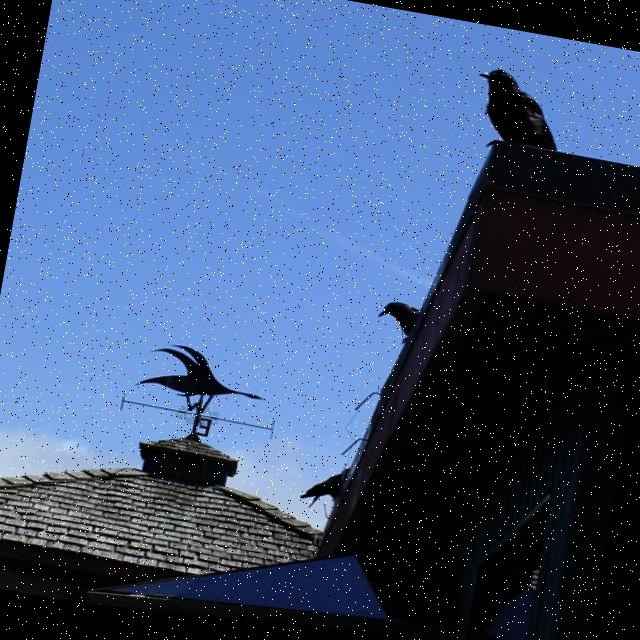bird: (131, 338, 271, 424), (468, 65, 570, 152), (298, 460, 350, 514), (375, 298, 420, 337)
